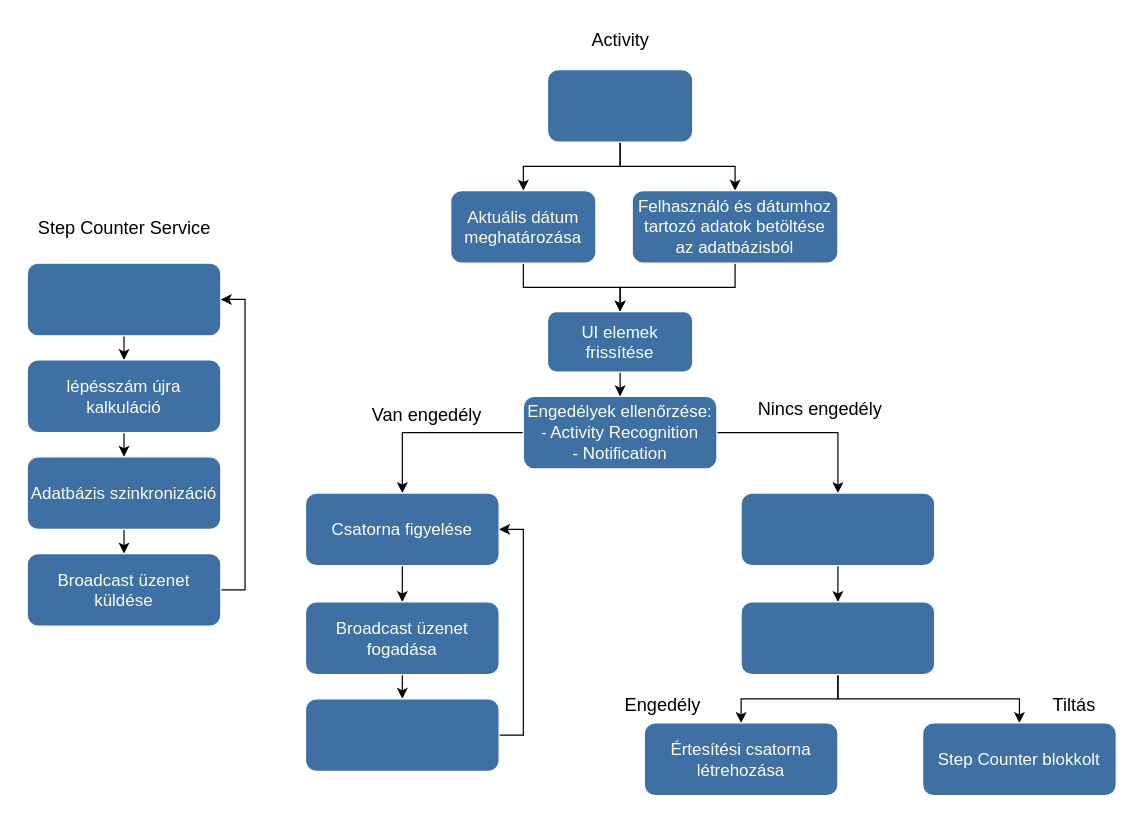
Some shapes in this 1137 by 817 pixel diagram are drawn without their labels. The centre of each missing label's shape, as x and y in pixels:
"felhasználó lép" belongs at pixel 123 299.
"Step Counter elindítása" belongs at pixel 619 105.
"UI frissítése" belongs at pixel 401 734.
"Várakozás a felhasználó vissza jelzésére" belongs at pixel 837 638.
"Átirányítás az eszköz engedélybeállításaihoz" belongs at pixel 837 529.
